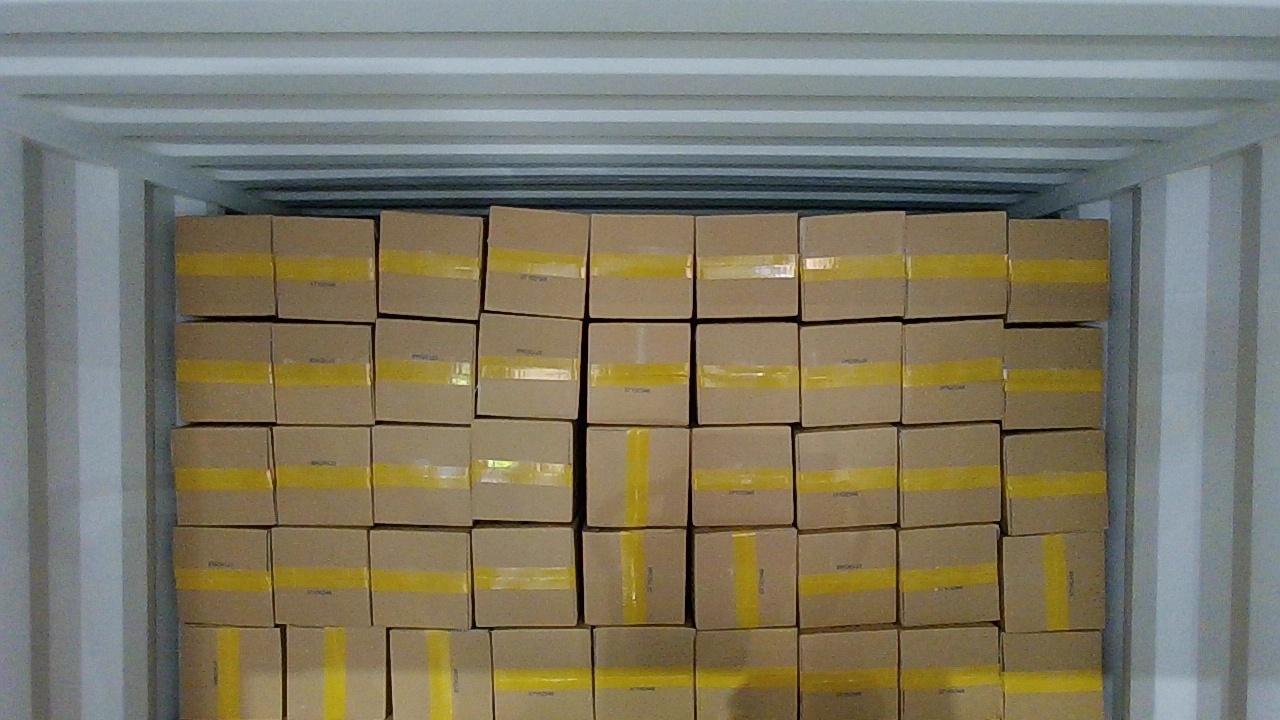carton: (800, 211, 906, 321), (475, 312, 583, 419), (485, 206, 588, 317), (379, 211, 483, 319), (588, 214, 693, 320), (583, 321, 689, 426), (272, 217, 377, 321), (695, 215, 799, 320), (375, 317, 476, 425), (471, 418, 575, 522), (1003, 430, 1107, 534), (472, 524, 578, 626), (1006, 219, 1109, 323), (905, 213, 1007, 318), (899, 423, 1001, 527), (170, 425, 275, 526), (796, 426, 898, 529), (1001, 531, 1104, 633), (586, 426, 690, 527), (693, 528, 797, 629), (697, 323, 800, 424), (370, 526, 471, 629), (801, 322, 900, 427), (902, 320, 1002, 423), (691, 425, 792, 526), (1004, 326, 1103, 429), (175, 216, 275, 317), (273, 322, 373, 423), (173, 526, 274, 626), (582, 527, 686, 624), (374, 424, 472, 526), (272, 426, 371, 526), (272, 526, 371, 626), (898, 525, 997, 625), (798, 527, 896, 628), (176, 321, 273, 423), (180, 625, 282, 719), (900, 625, 1001, 719), (286, 626, 388, 719), (389, 628, 493, 719), (594, 626, 695, 719), (696, 628, 797, 719), (492, 628, 593, 719), (800, 627, 898, 719), (1002, 631, 1102, 719)
